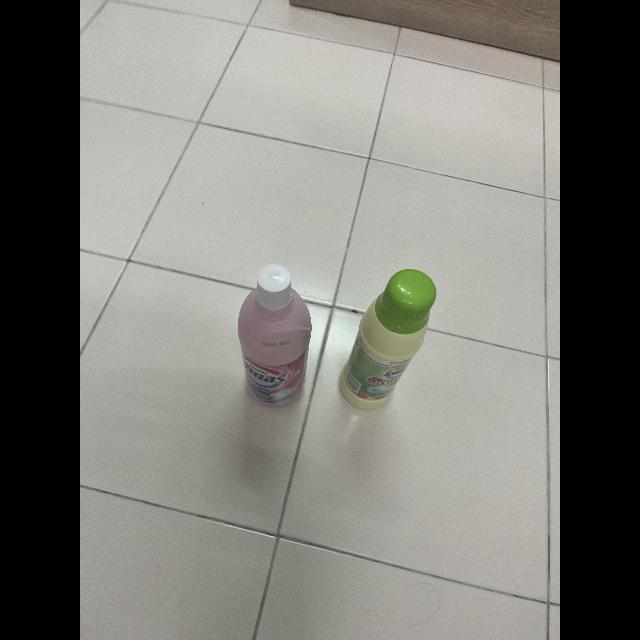chemical_plastic_bottle: (332, 268, 442, 407), (231, 257, 315, 417)
